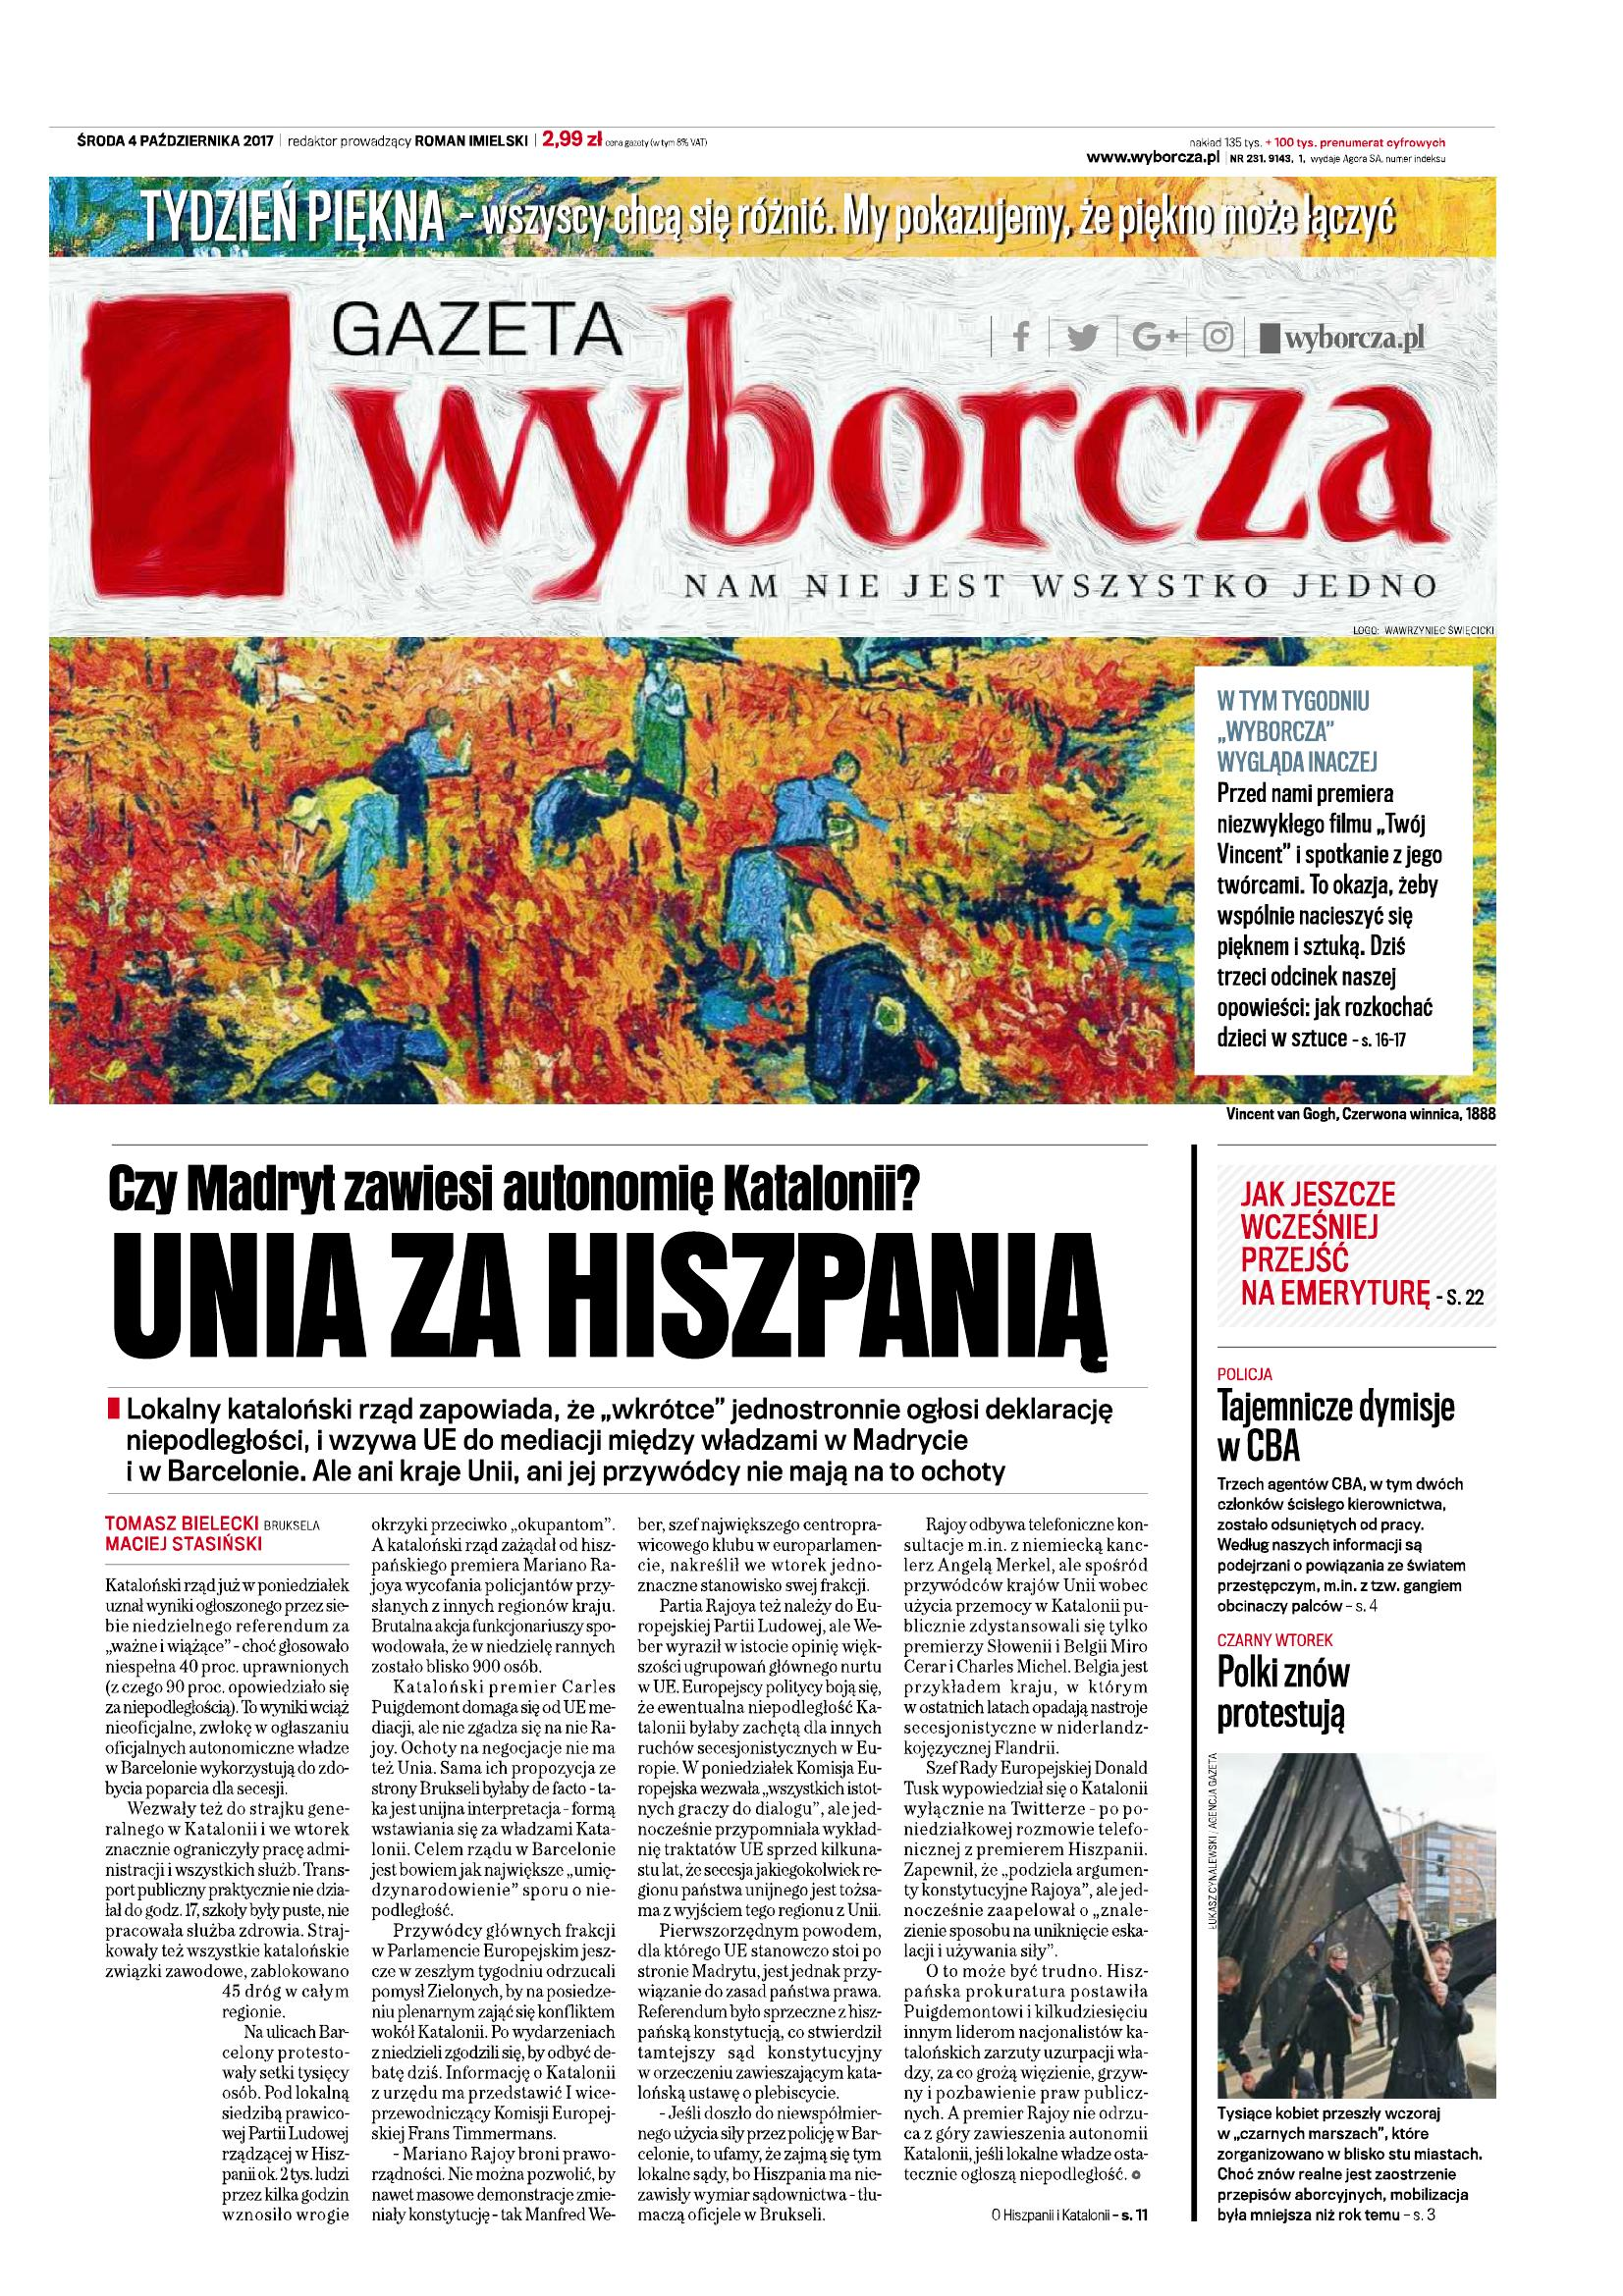article: (98, 1155, 1172, 2245)
